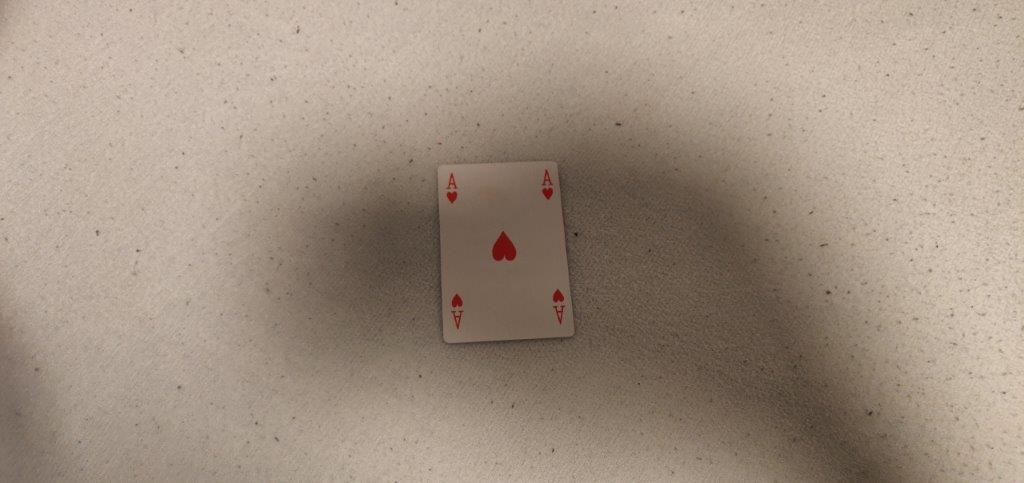AH: (443, 168, 461, 205), (540, 166, 555, 201)
